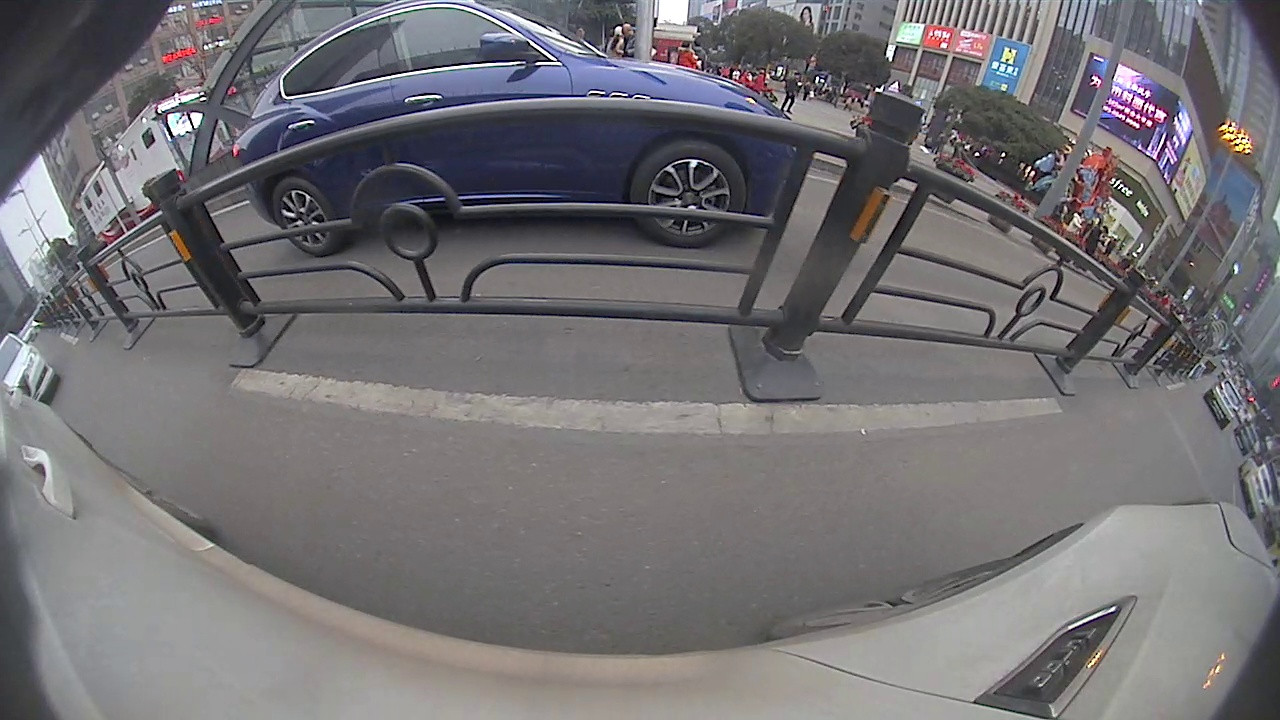car: (232, 3, 797, 258), (1203, 378, 1244, 428)
front: (636, 137, 748, 250)
rear: (271, 176, 336, 256)
